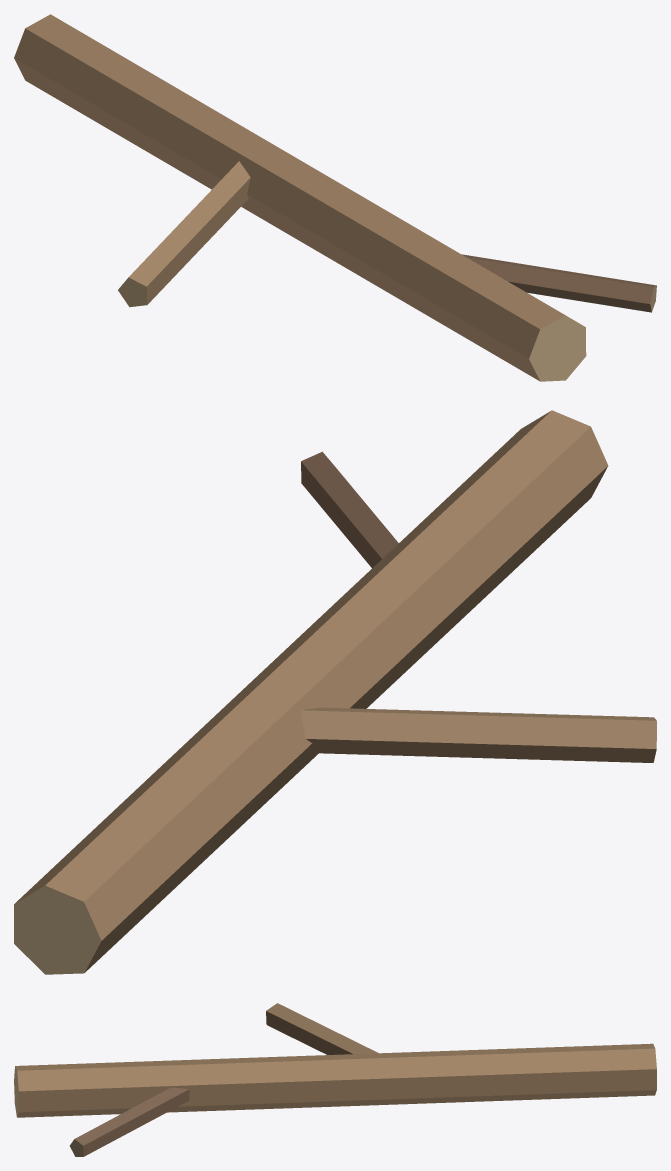
The model's file is debris_branch_a.glb.
3 views of the same model, one above another, from view 1: azimuth 30°, elevation 25°; view 2: azimuth 150°, elevation 25°; view 3: azimuth 270°, elevation 25° (orthographic). The views are drawn at different scales.
Parts seen in each view (by area): view 1: debris_branch_a; view 2: debris_branch_a; view 3: debris_branch_a.
Boxes of the visible parts, <box> form: debris_branch_a: <box>14,14,656,381</box>; debris_branch_a: <box>14,410,656,974</box>; debris_branch_a: <box>14,1003,656,1156</box>.
Bounding box in the file's own units: 0.4379 × 0.0732 × 0.8464.
